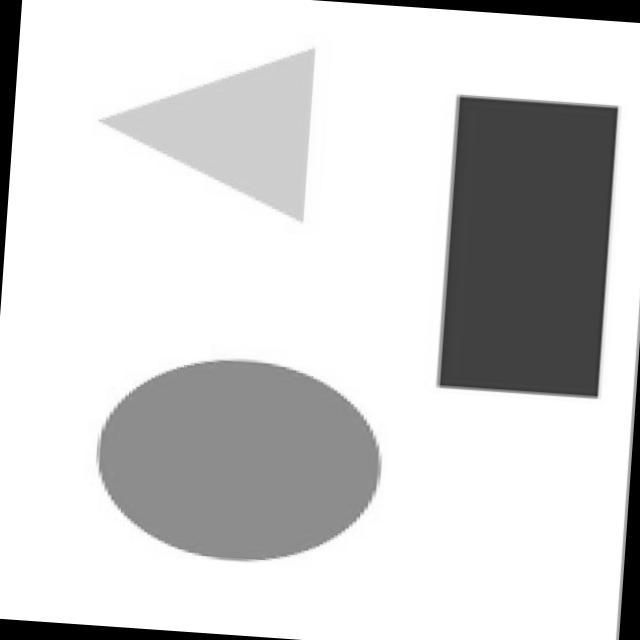circle: (65, 307, 404, 570)
square: (419, 68, 631, 414)
triangle: (87, 39, 350, 233)
